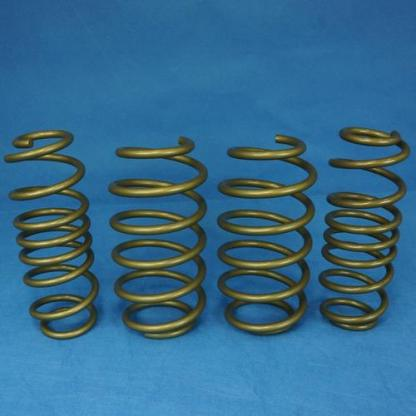FOD: (217, 128, 320, 336), (2, 126, 102, 340), (108, 132, 208, 340), (319, 124, 413, 336)
